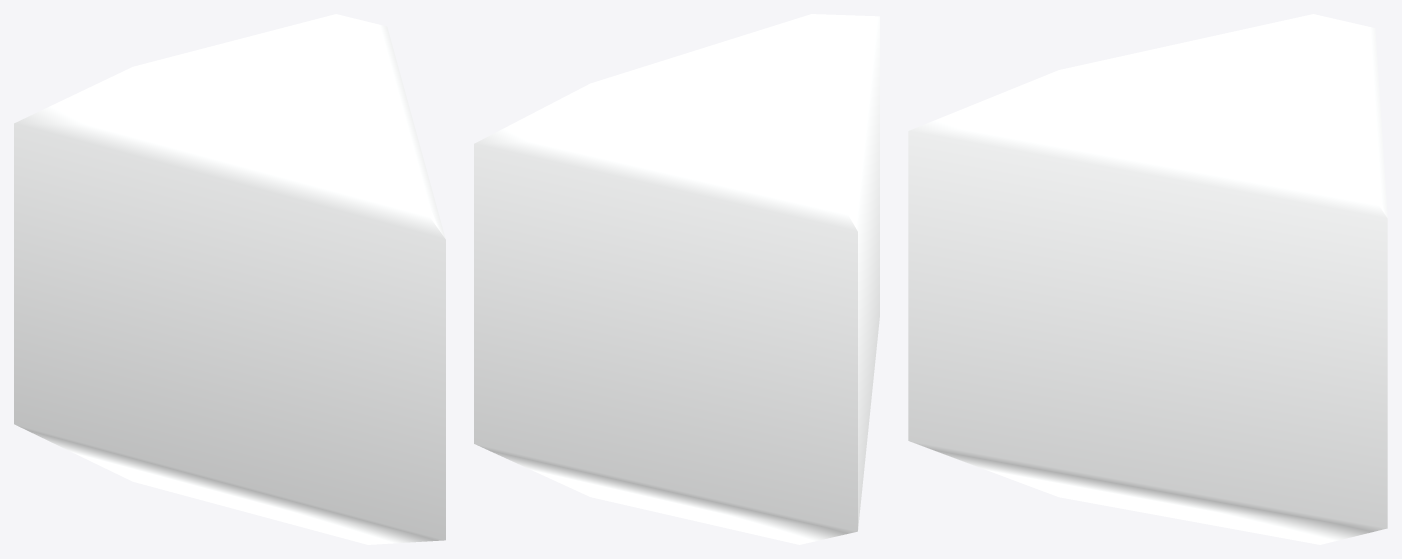
File: ice_floe_small_010.glb
3 views of the same model, side by side, from view 1: azimuth 30°, elevation 25°; view 2: azimuth 150°, elevation 25°; view 3: azimuth 270°, elevation 25° (orthographic). The views are drawn at different scales.
Parts seen in each view (by area): view 1: ice_floe_small_010; view 2: ice_floe_small_010; view 3: ice_floe_small_010.
Boxes of the visible parts, box(x1,y1,x2,y2) form: ice_floe_small_010: box(14, 14, 445, 544); ice_floe_small_010: box(474, 14, 879, 544); ice_floe_small_010: box(908, 14, 1387, 544).
Bounding box in the file's own units: 0.6657 × 0.6962 × 0.7083.
Materials: 1 (1 with a texture image).
